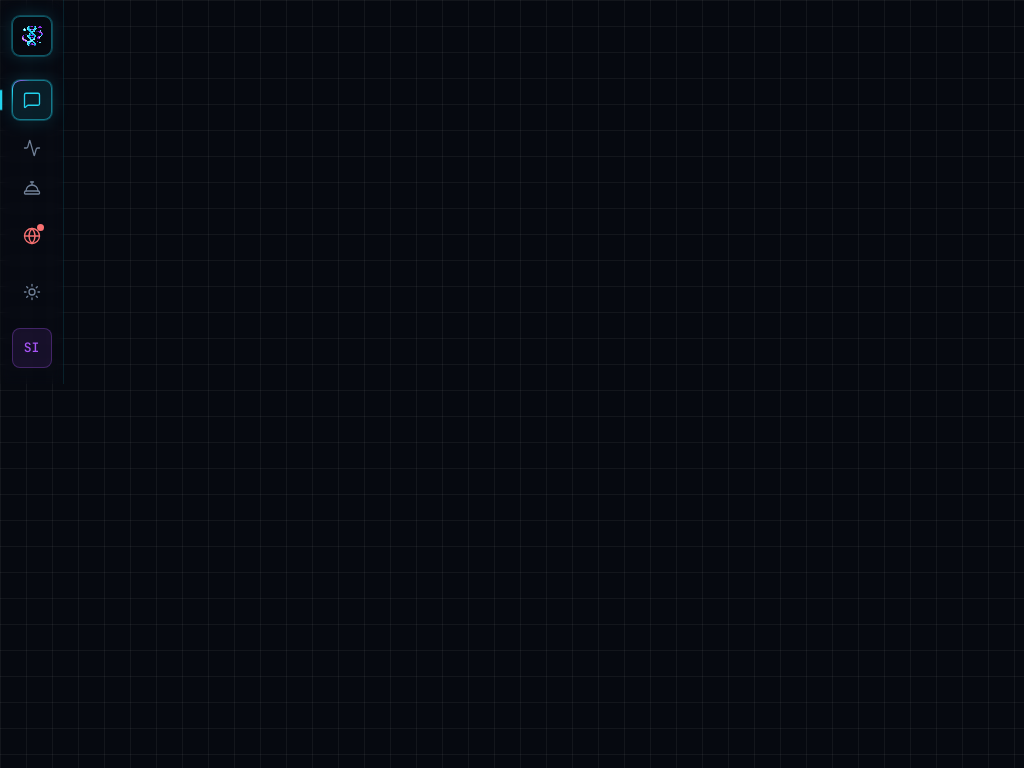
Test: T7 popover 启动按钮三态切换（契约 v0.9 web.start 显式启动通路） › error 态：启动钮可用（重试入口）+ 停止钮可用（清理既有错误残留）
The width and height of the screenshot is (1024, 768).
Click the button with id "btn-web-status".
click(32, 236)  # box left=12, top=216, right=52, bottom=256
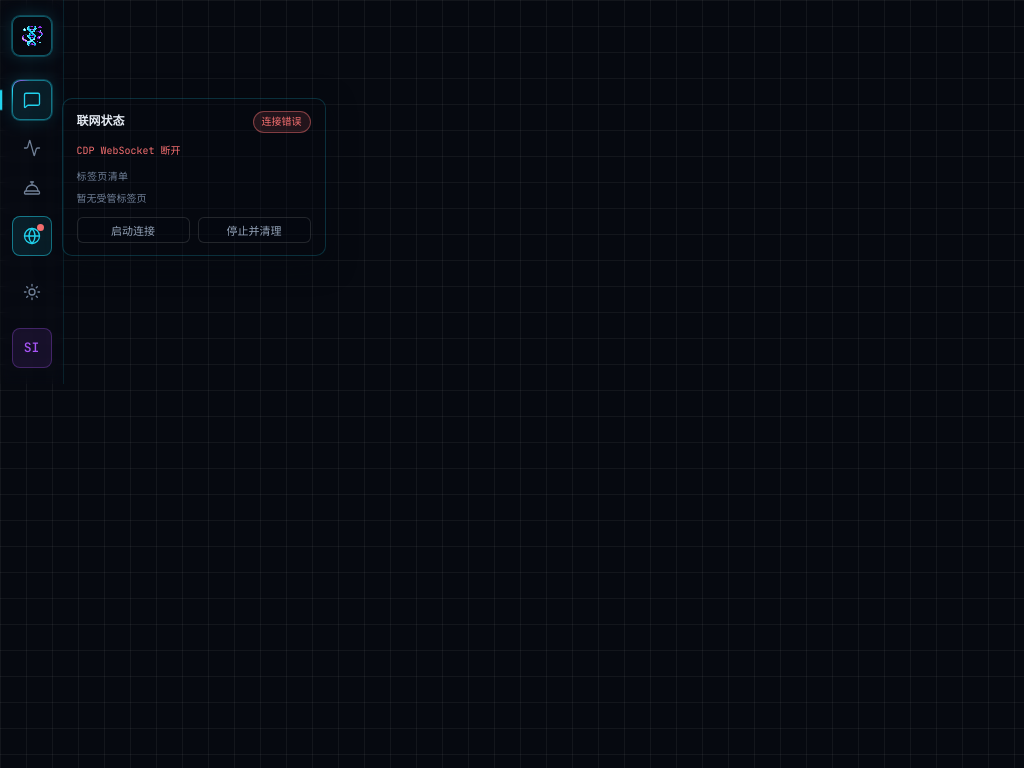
Expected: the button with id "btn-web-start" is enabled, left=76, top=217, right=190, bottom=243
Expected: the button with id "btn-web-stop" is enabled, left=198, top=217, right=310, bottom=243
